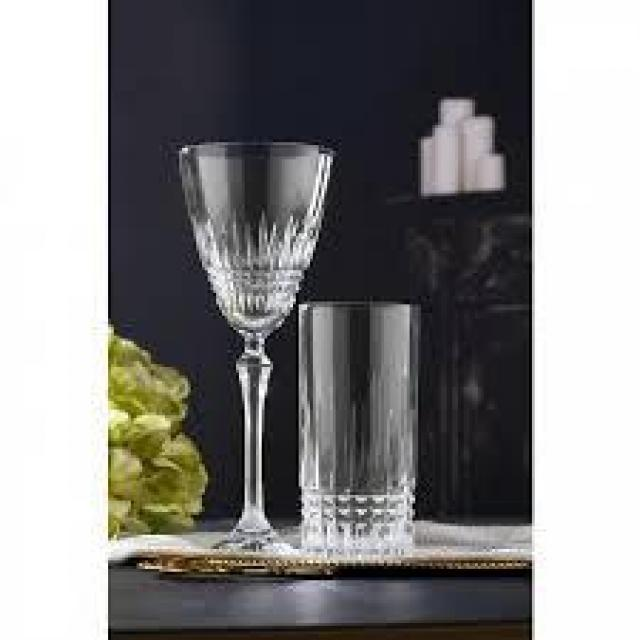non-organic waste: (176, 141, 336, 556), (297, 298, 425, 554)
